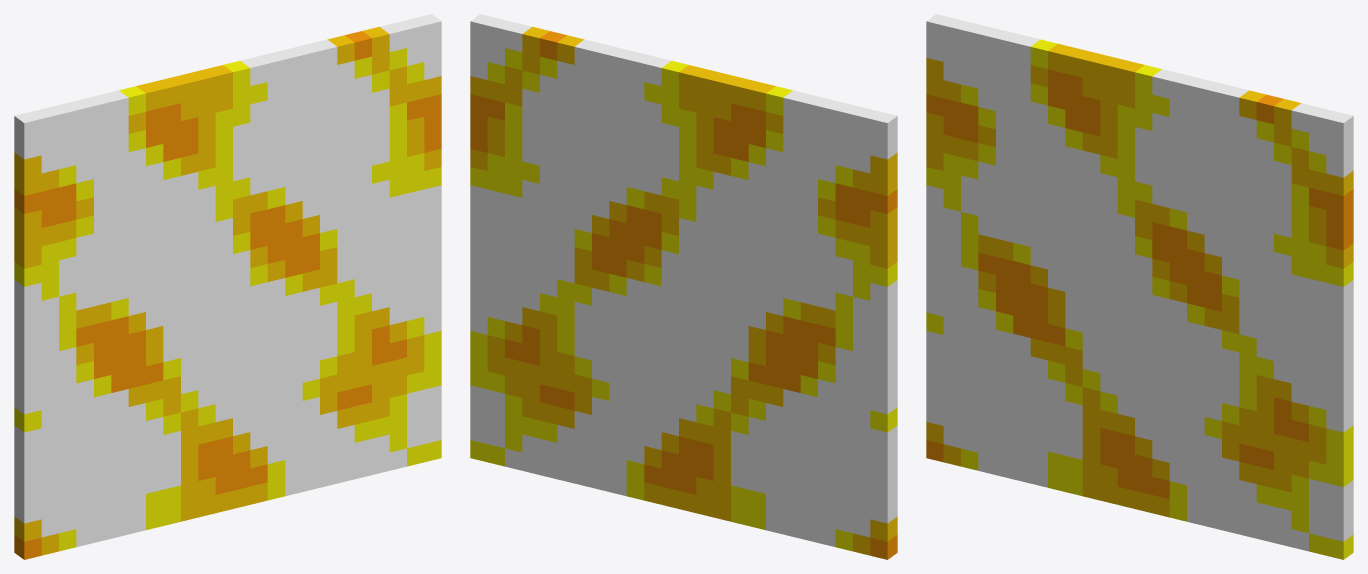
Rendered from lava_25_50_f2.obj.
3 views of the same model, side by side, from view 1: azimuth 30°, elevation 25°; view 2: azimuth 150°, elevation 25°; view 3: azimuth 330°, elevation 25° (orthographic).
Bounding box in the file's own units: 2.4 × 2.4 × 0.1.
1 material, 1 textured.
